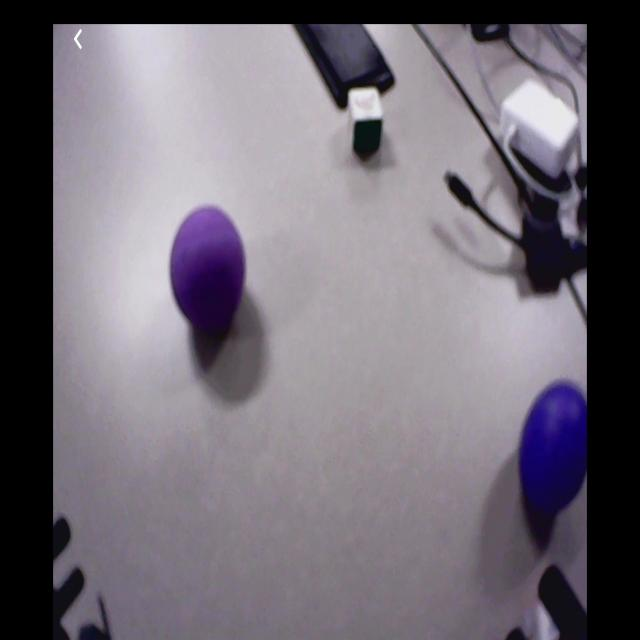ball: (169, 204, 244, 323), (522, 382, 587, 512)
